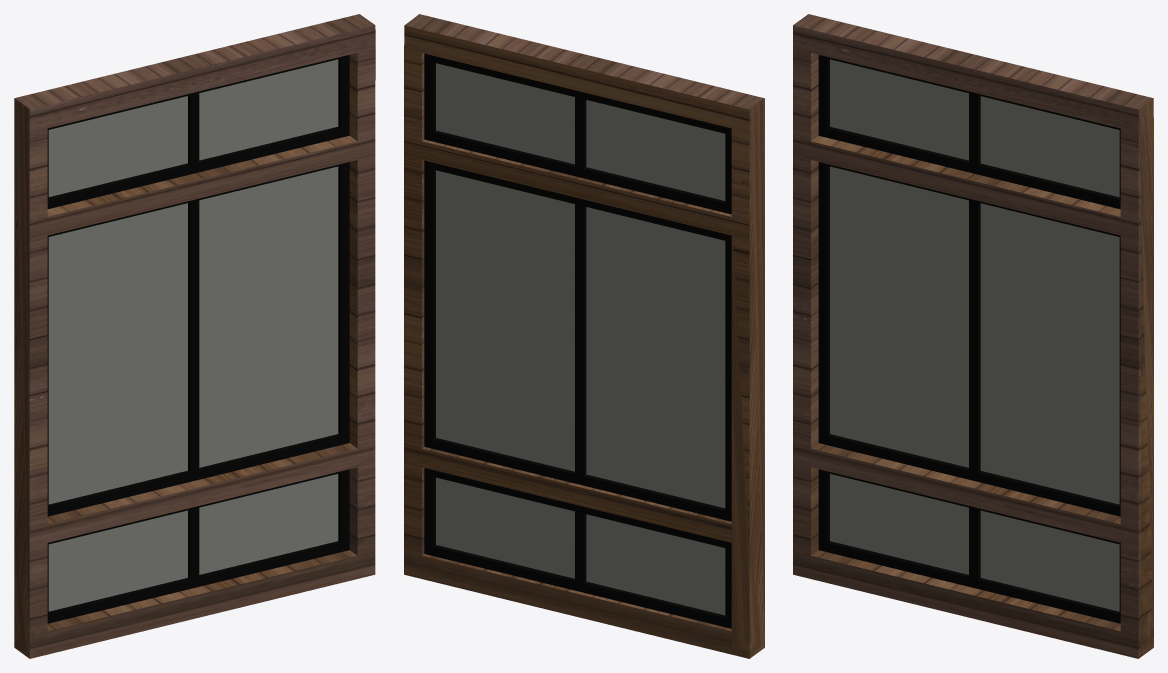
The model's file is ARC0810032.fbx.
3 views of the same model, side by side, from view 1: azimuth 30°, elevation 25°; view 2: azimuth 150°, elevation 25°; view 3: azimuth 330°, elevation 25° (orthographic).
Parts seen in each view (by area): view 1: smARC0810032; view 2: smARC0810032; view 3: smARC0810032.
Boxes of the visible parts, <box> form: smARC0810032: <box>14,14,375,658</box>; smARC0810032: <box>404,14,764,658</box>; smARC0810032: <box>793,14,1153,658</box>.
Size of the model in its own units: 270 by 409 by 20.82.
Materials: 1 (1 with a texture image).
